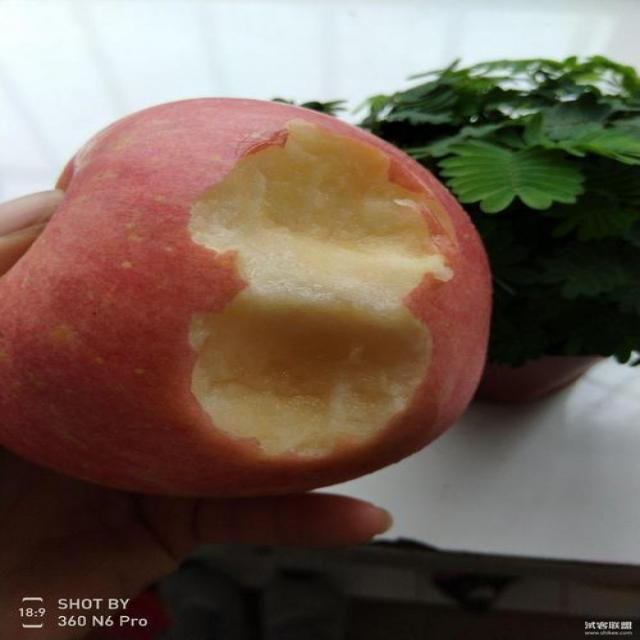Banana: (0, 88, 503, 512)
